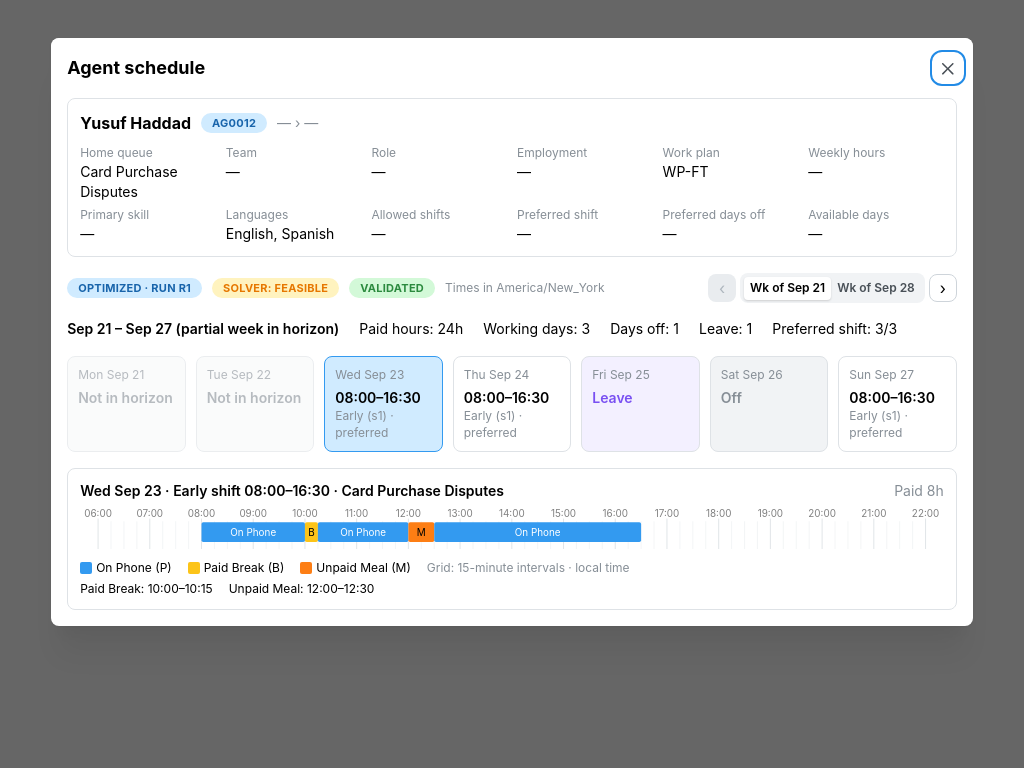
Scenario: previous/next week navigation and day selection
Expected: the heading "Yusuf Haddad" is shown, [80,111,191,135]
Expected: the button named "Previous week" is disabled, [708,274,736,302]
Click the button named "Next week" at {"x": 943, "y": 288}, box [929,274,957,302]
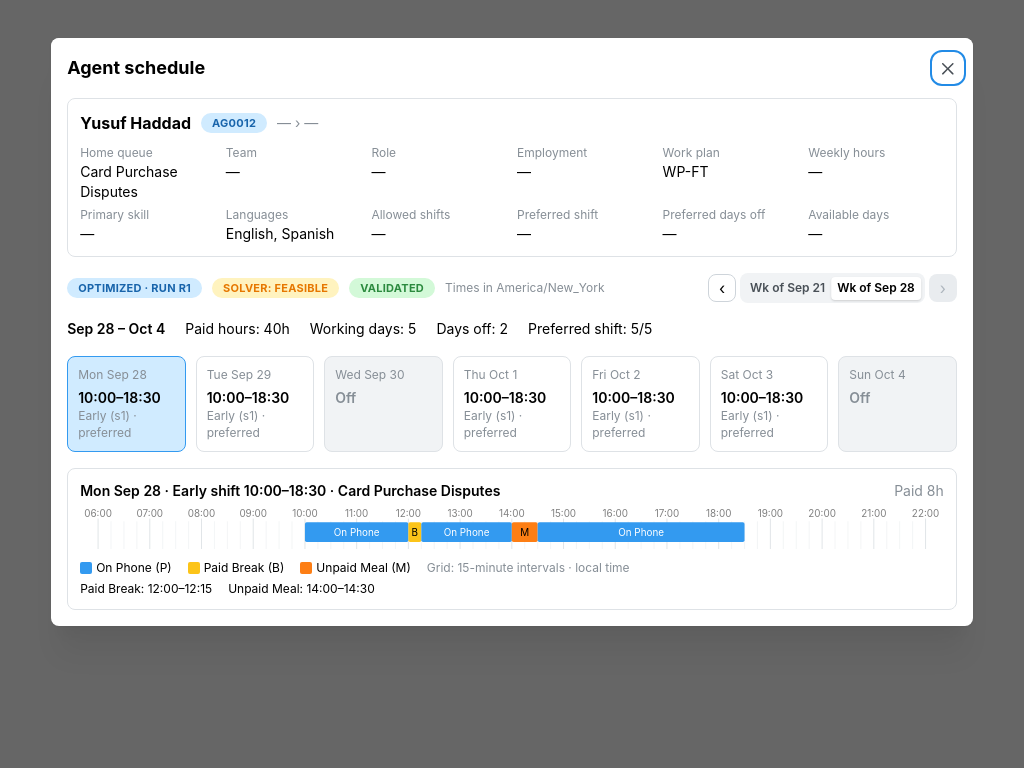
Expected: the button with aria-label "Mon Sep 28: Early 10:00–18:30" is shown, [67,356,186,452]
Click the button with aria-label "Thu Oct 1: Early 10:00–18:30" at {"x": 512, "y": 404}, box [453,356,571,452]
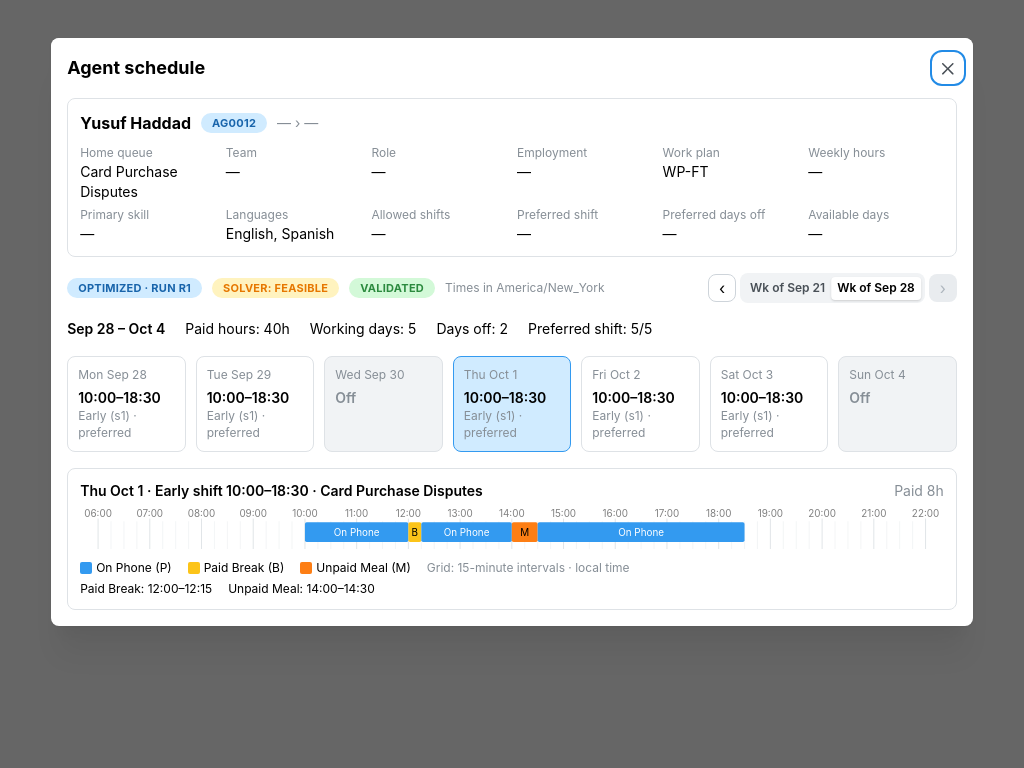
Expected: the text "Thu Oct 1 · Early shift 10:00–18:30 · Card Purchase Disputes" is shown, [80,482,483,502]
